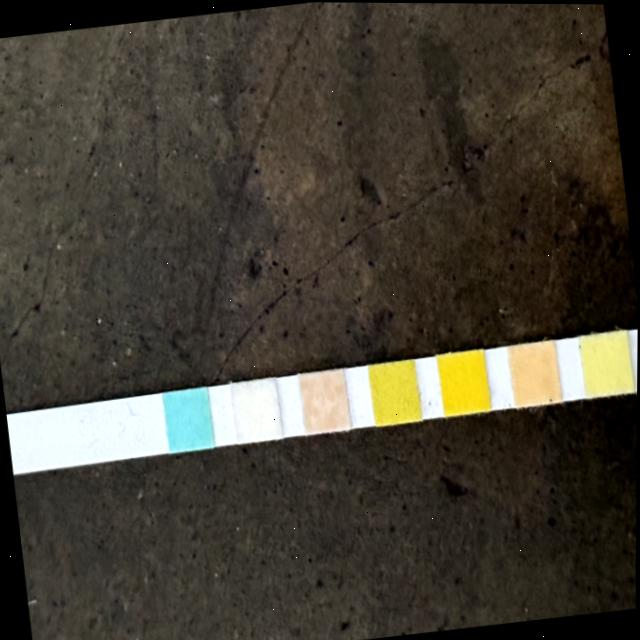Bilirubin: (232, 379, 282, 441)
Blood: (438, 349, 489, 412)
Glucose: (162, 386, 214, 450)
Ketone: (300, 369, 349, 431)
Protein: (582, 331, 634, 393)
SpGravity: (370, 359, 421, 422)
pH: (511, 340, 561, 402)
